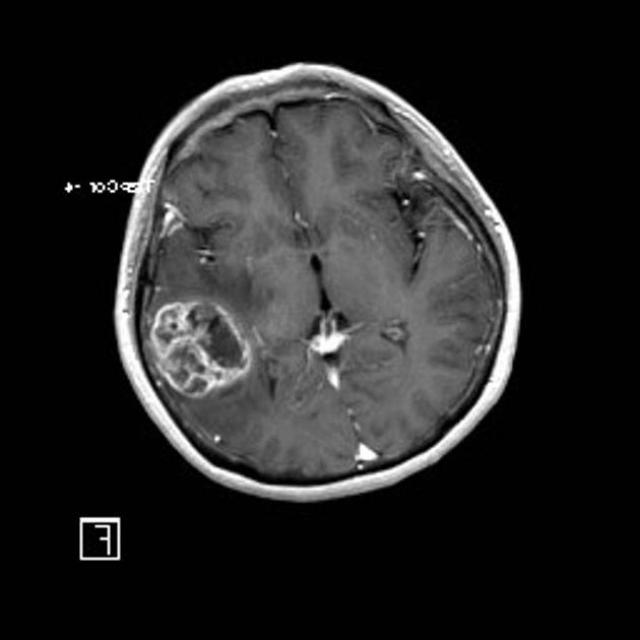Tumor-Cell: (145, 283, 244, 404)
